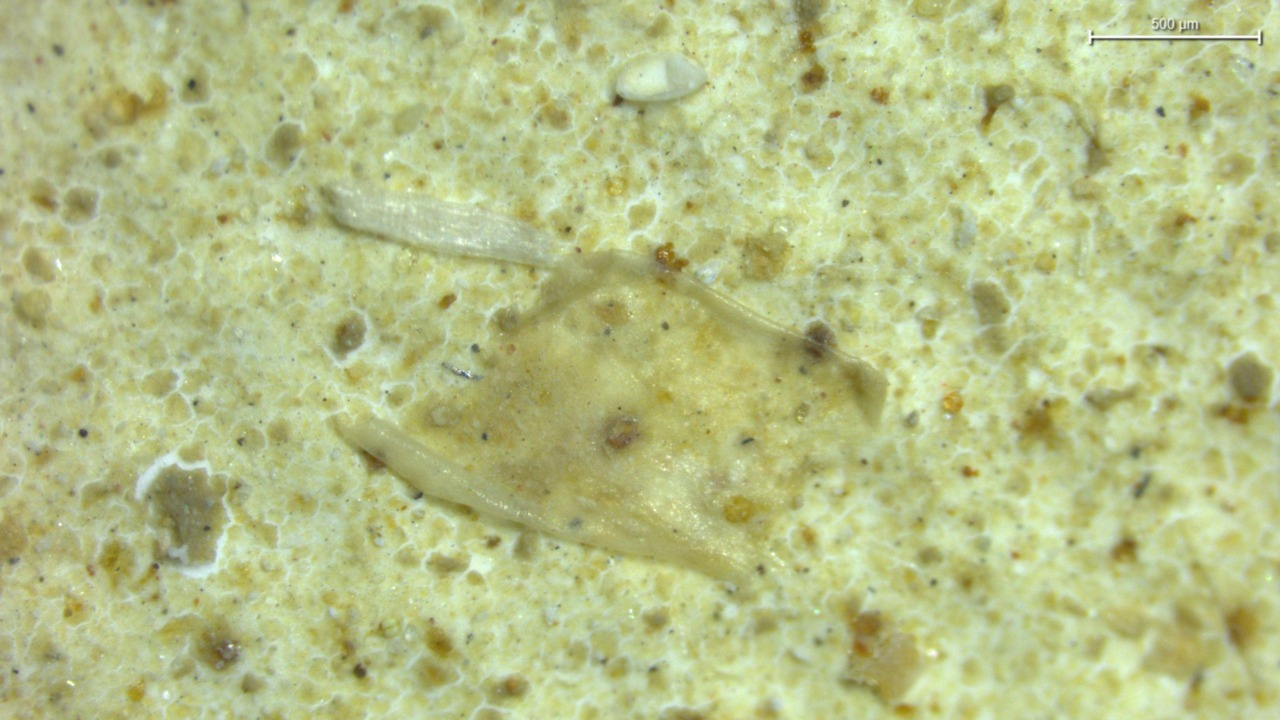microplastic_fragment: (329, 186, 887, 580), (327, 184, 574, 267), (615, 53, 707, 104)
